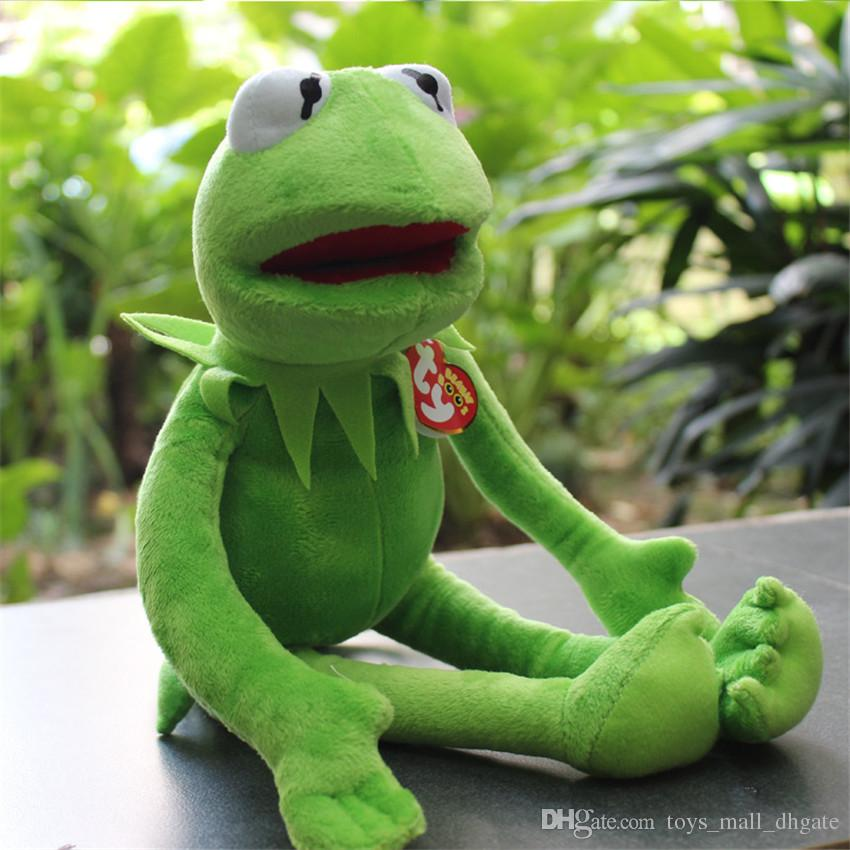kermit: (192, 60, 494, 355)
